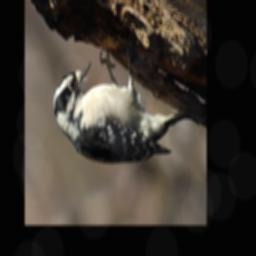Woodpecker: (54, 48, 192, 164)
